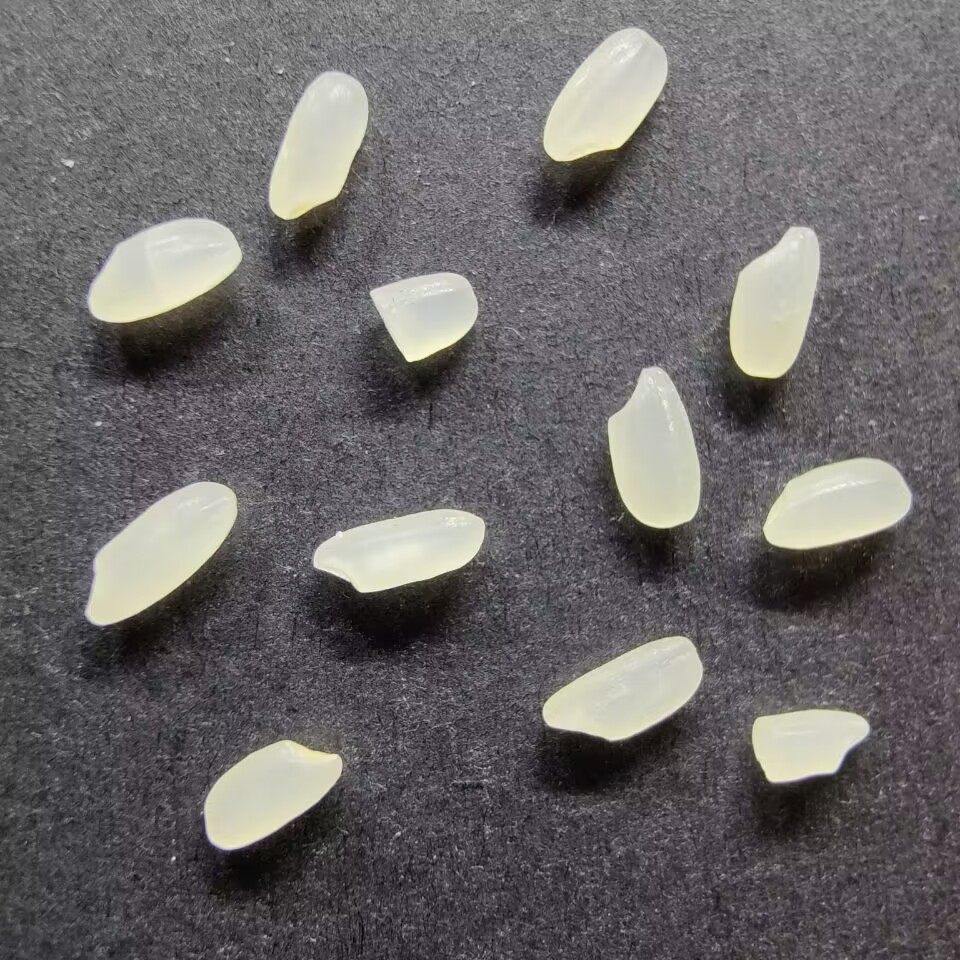broken: (368, 272, 479, 363), (751, 708, 872, 787)
rice: (83, 479, 239, 629), (541, 634, 704, 743), (544, 26, 668, 164), (88, 217, 243, 325), (604, 364, 703, 530), (202, 738, 345, 852), (268, 70, 371, 224), (310, 507, 487, 595), (728, 224, 822, 380), (760, 457, 914, 551)
